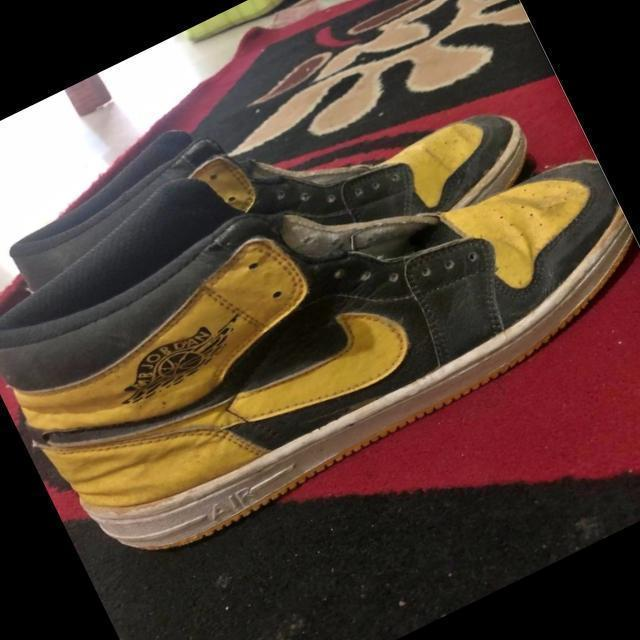nike fake jordan 1: (0, 9, 640, 591), (0, 0, 547, 393)
